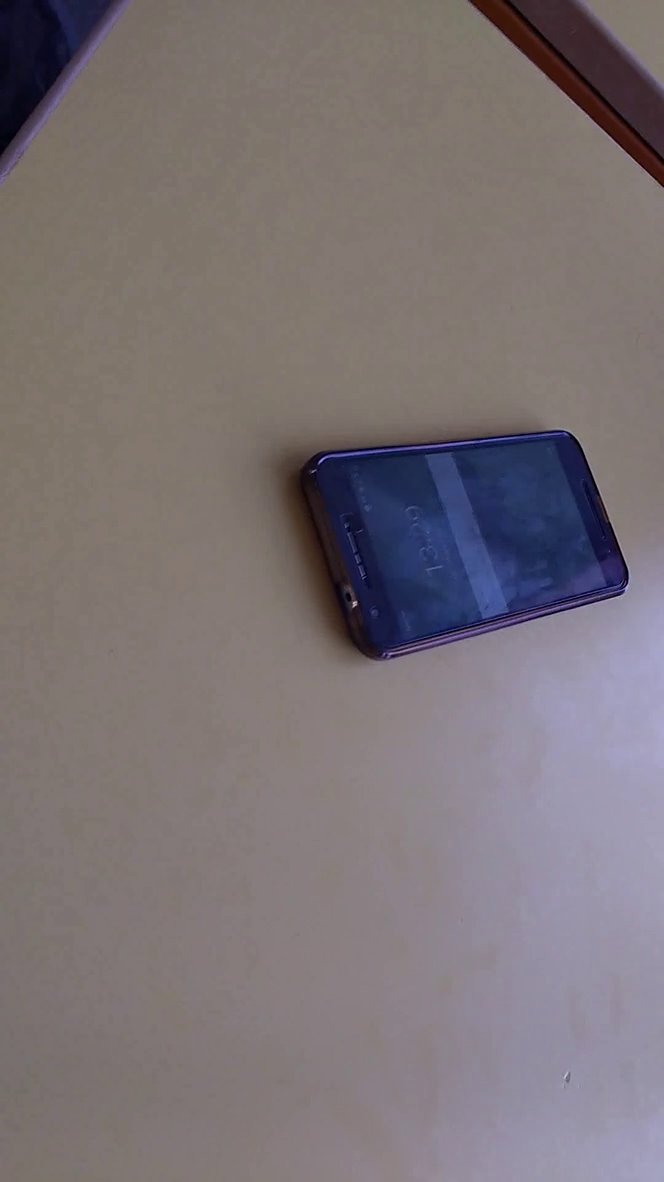phone: (286, 412, 643, 676)
